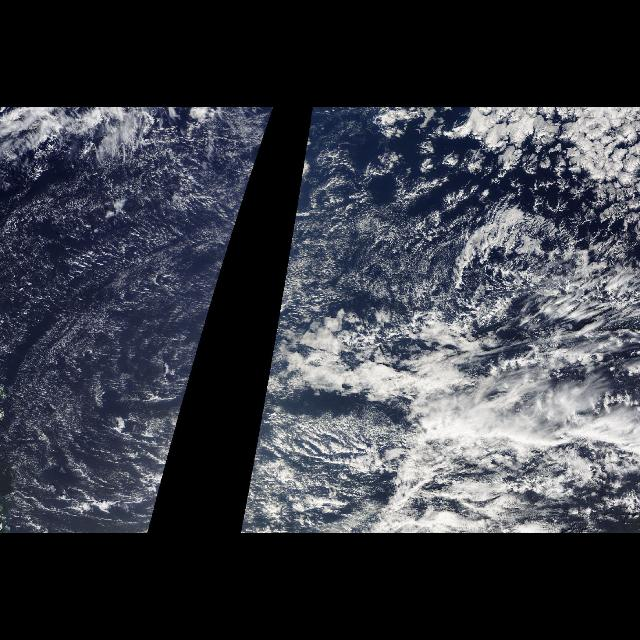Flower: (353, 108, 639, 240)
Sugar: (2, 120, 270, 528), (242, 210, 296, 528)
